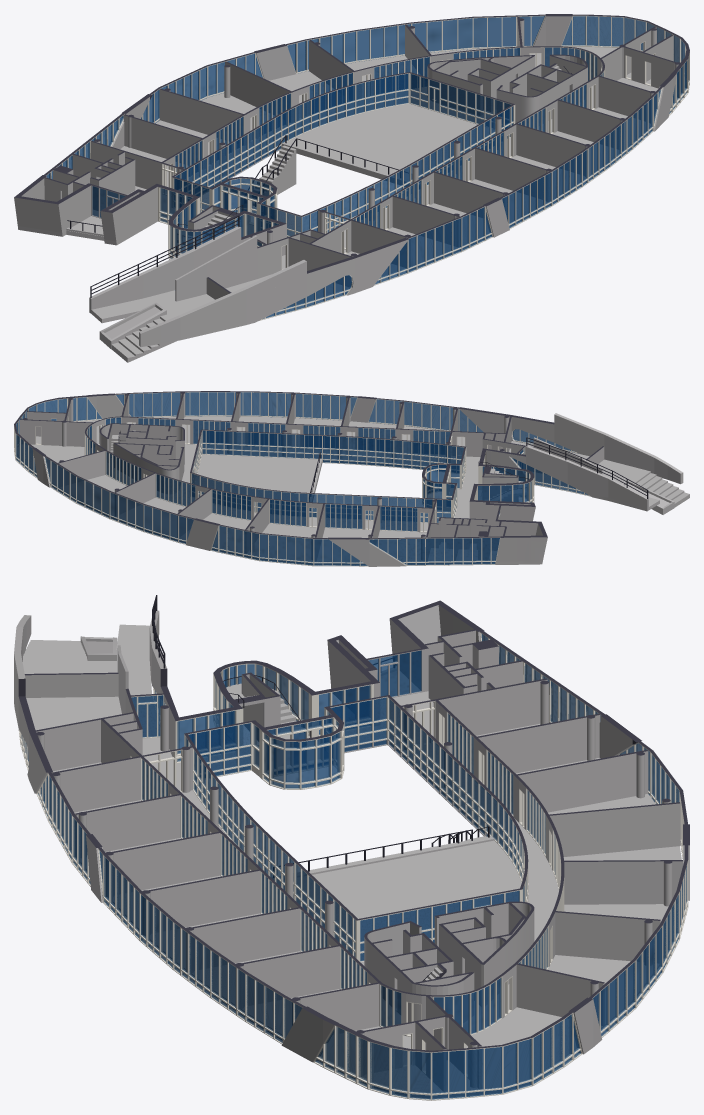
3 views of the same model, one above another, from view 1: azimuth 30°, elevation 25°; view 2: azimuth 150°, elevation 25°; view 3: azimuth 270°, elevation 25° (orthographic). The views are drawn at different scales.
Parts seen in each view (by area): view 1: GIMC_3F; view 2: GIMC_3F; view 3: GIMC_3F.
Part boxes in pixels (box(x1,y1,x2,y2)): GIMC_3F: box(14, 14, 689, 362); GIMC_3F: box(14, 391, 689, 566); GIMC_3F: box(14, 595, 689, 1100).
Size of the model in its own units: 162 by 19.7 by 97.36.
Materials: 2 (2 with a texture image).
